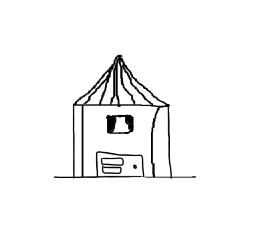door: (94, 147, 148, 186)
open_window: (104, 110, 136, 137)
roof: (64, 47, 173, 111)
small_house: (0, 1, 260, 232)
wall: (63, 97, 179, 185)
